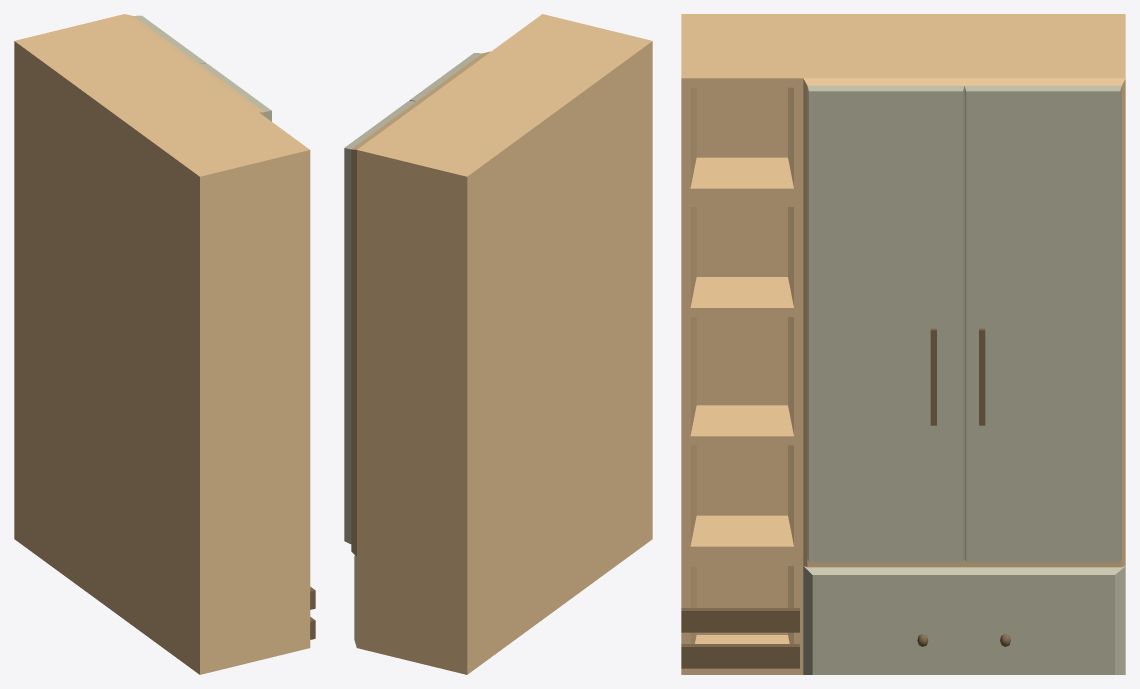
File: Wardrobe.fbx
3 renders of one model, left to right at view 1: azimuth 30°, elevation 25°; view 2: azimuth 150°, elevation 25°; view 3: azimuth 270°, elevation 25°, orthographic. The views are drawn at different scales.
Visible parts, largest first — view 1: Object005; view 2: Object005; view 3: Object005.
Boxes of the visible parts, x1,y1,x2,y2 form: Object005: (14, 14, 315, 674); Object005: (344, 14, 652, 674); Object005: (681, 14, 1125, 674).
Size of the model in its own units: 44.3 by 164 by 111.
